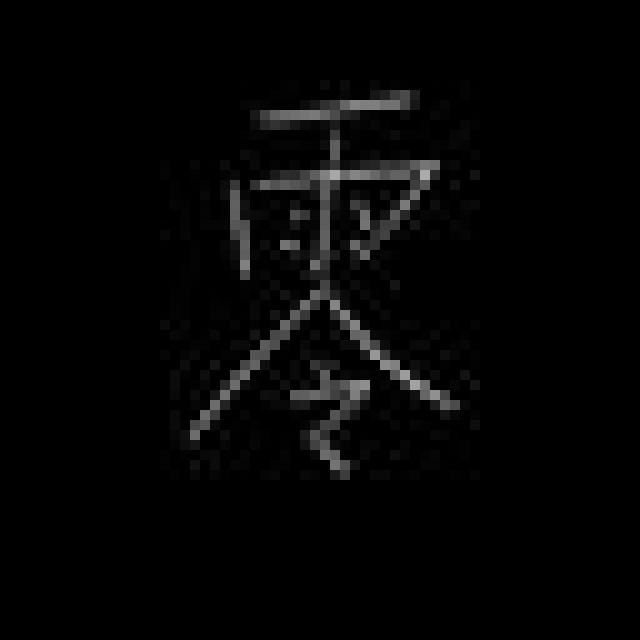0 -zero-: (173, 90, 469, 504)
